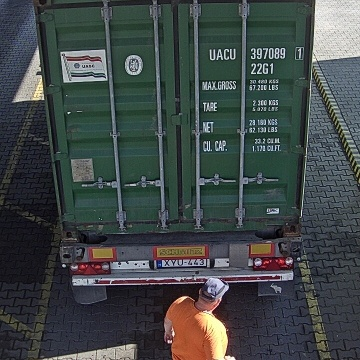serial_id: (209, 47, 303, 60)
